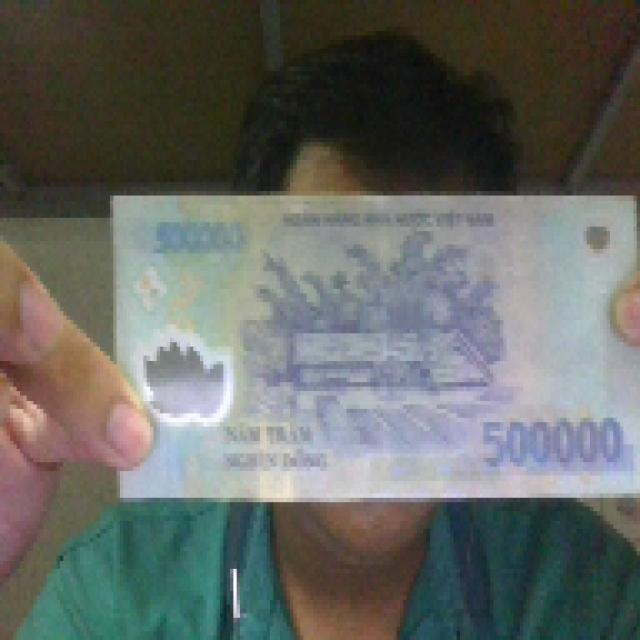500 000 VND: (106, 182, 636, 507)
